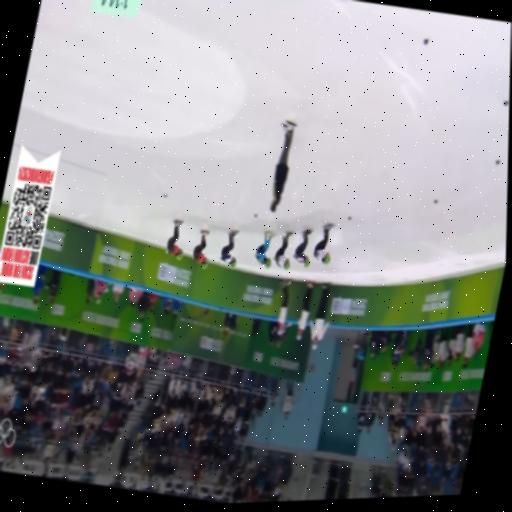Skater: (313, 223, 333, 264), (274, 232, 292, 269), (220, 230, 238, 267), (255, 231, 273, 268), (293, 229, 311, 265), (166, 219, 182, 258), (192, 230, 208, 267)
